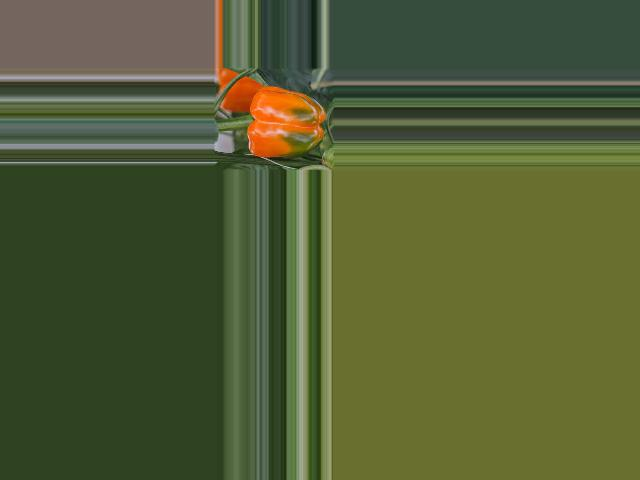bell_pepper: (238, 83, 331, 167)
